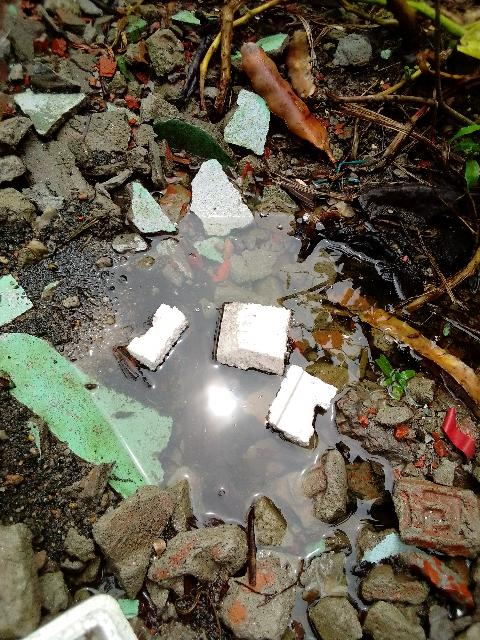cocksheet: (124, 281, 351, 446)
